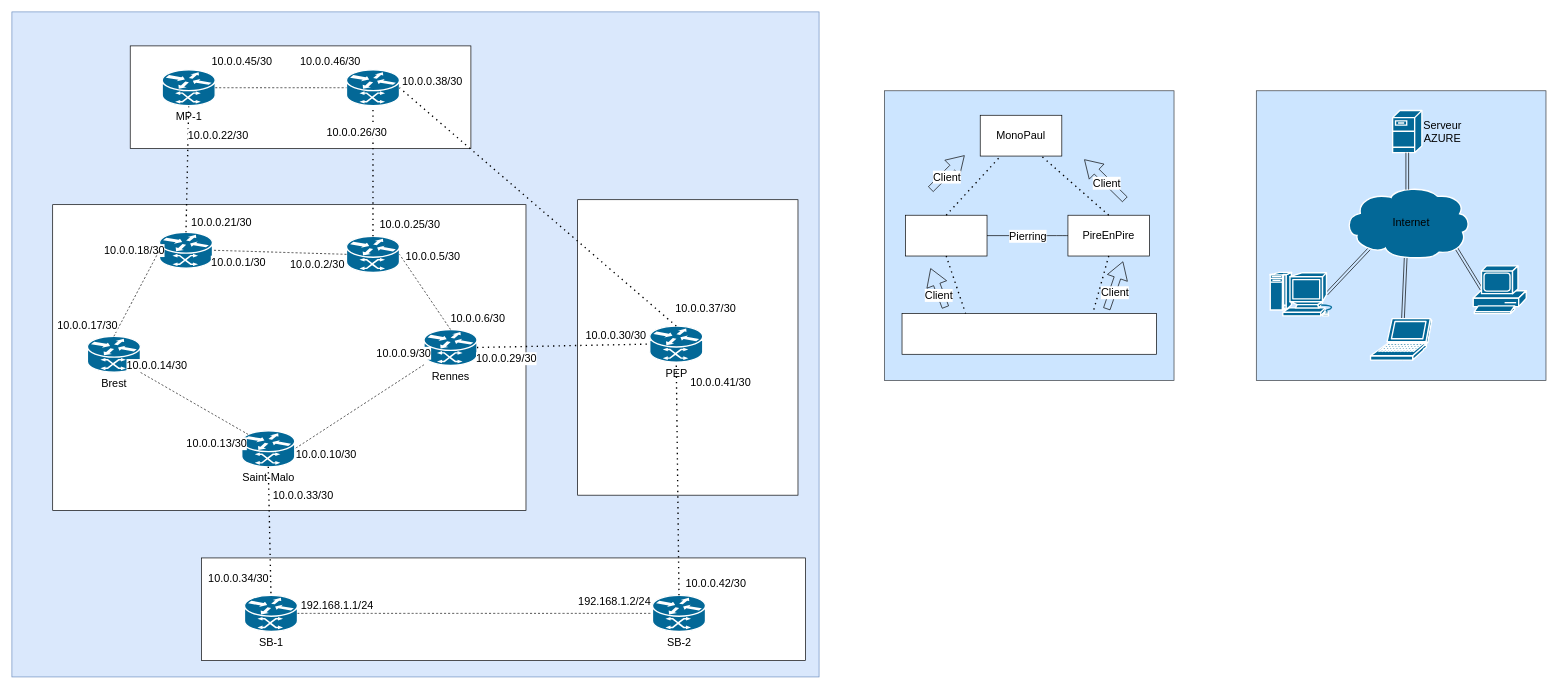
Image size: 1558x689. Some labels were removed from this diagram. The centre of each missing label's shape, as x and y in pixels:
Lorient: [185,250]
MP-2: [372,87]
ReefTélécom: [946,235]
SalutBank: [1028,333]
Vannes: [372,254]
